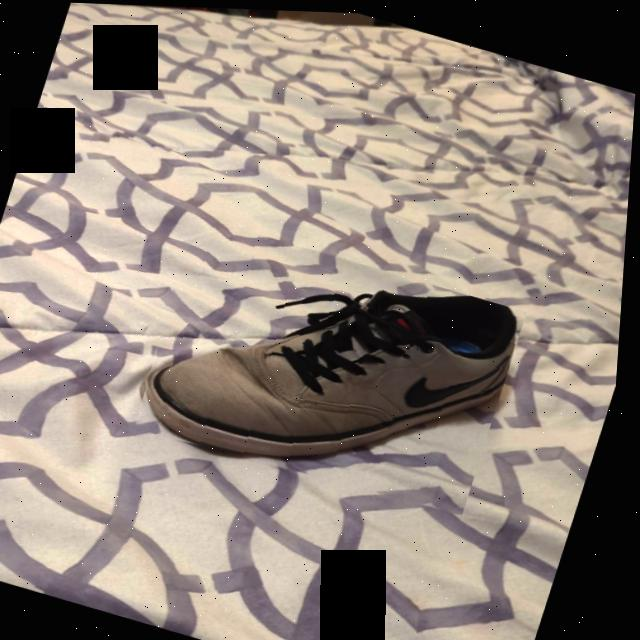shoe: (128, 212, 534, 520)
